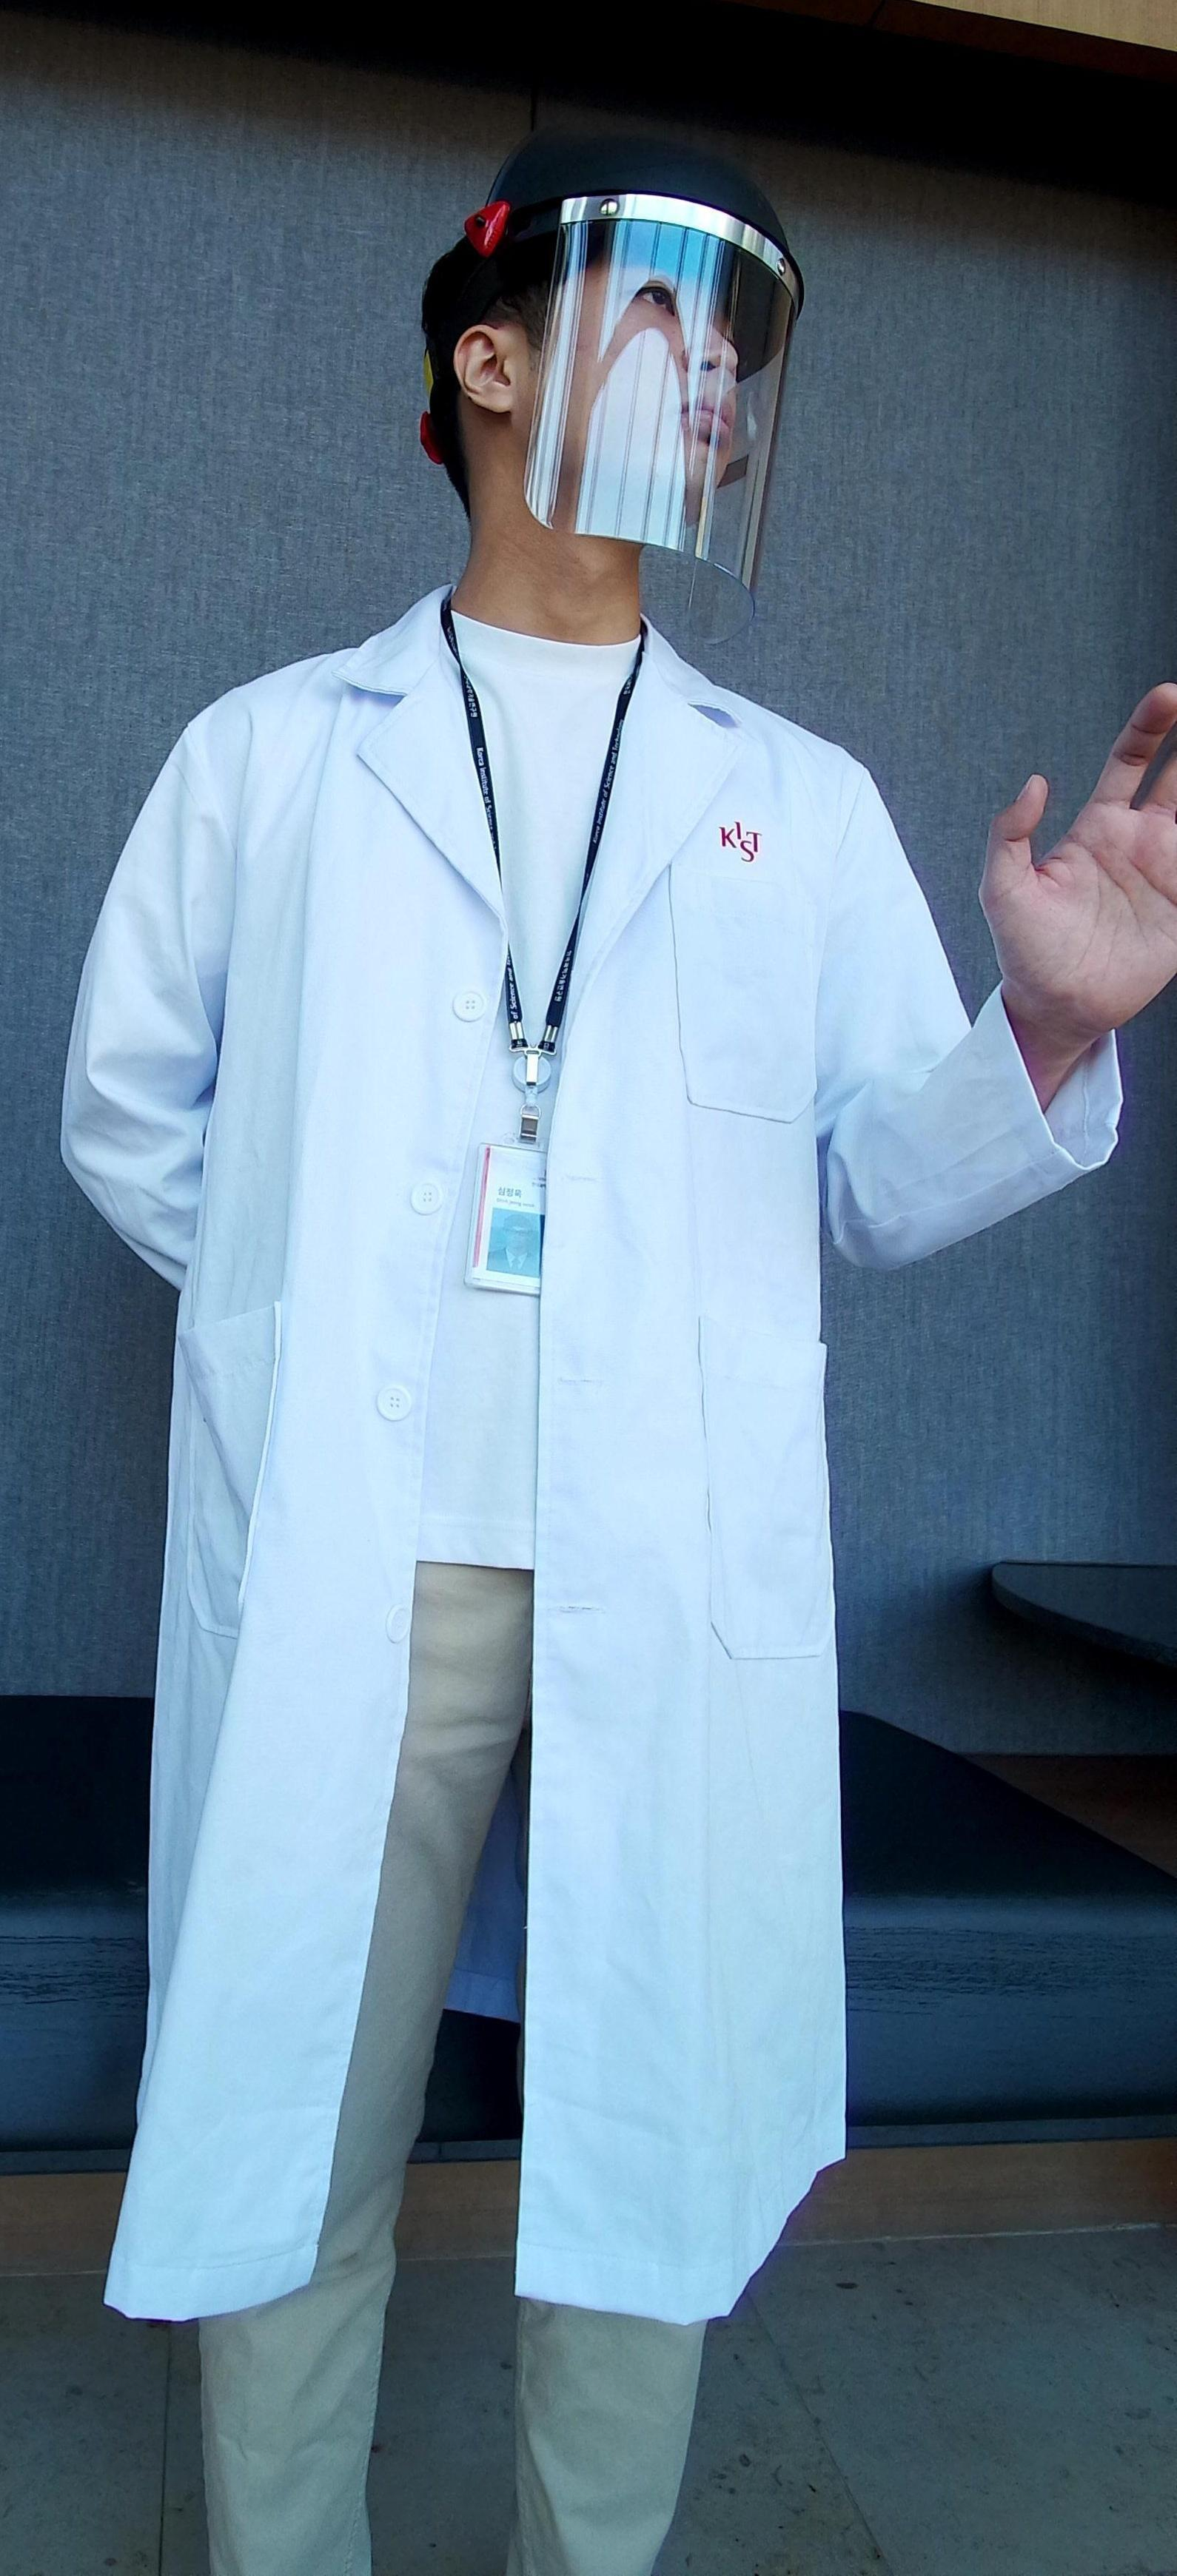lab_coat: (120, 637, 896, 2238)
